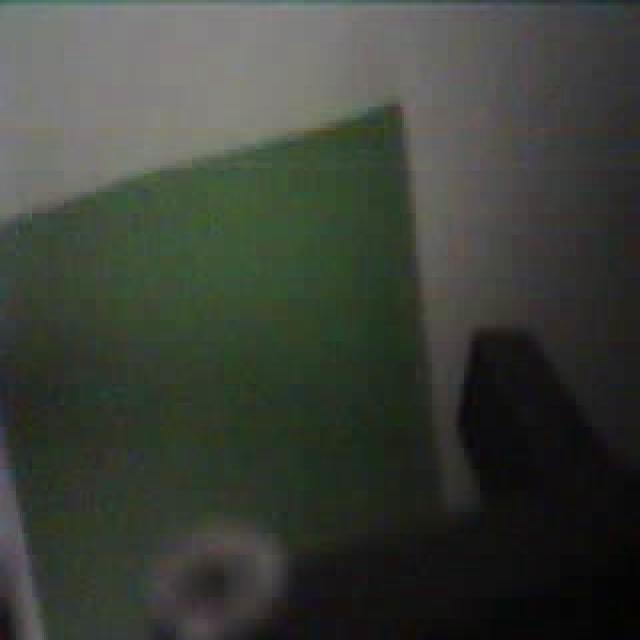green_box: (0, 99, 444, 637)
